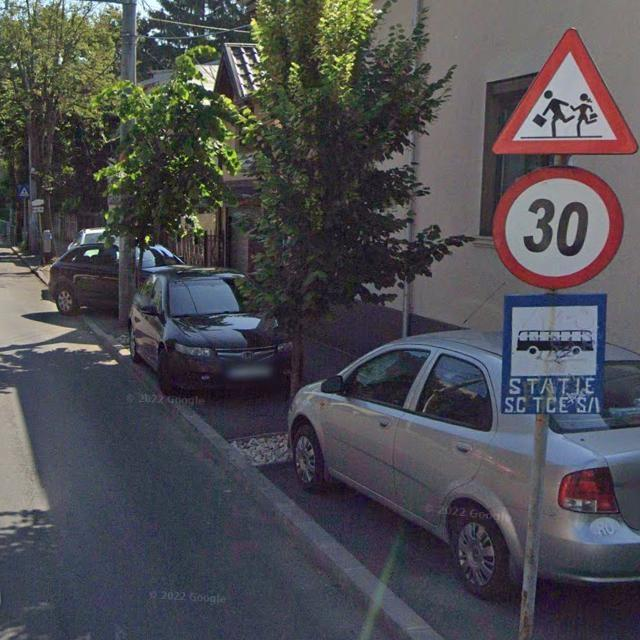forb_speed_over_30: (492, 168, 627, 291)
